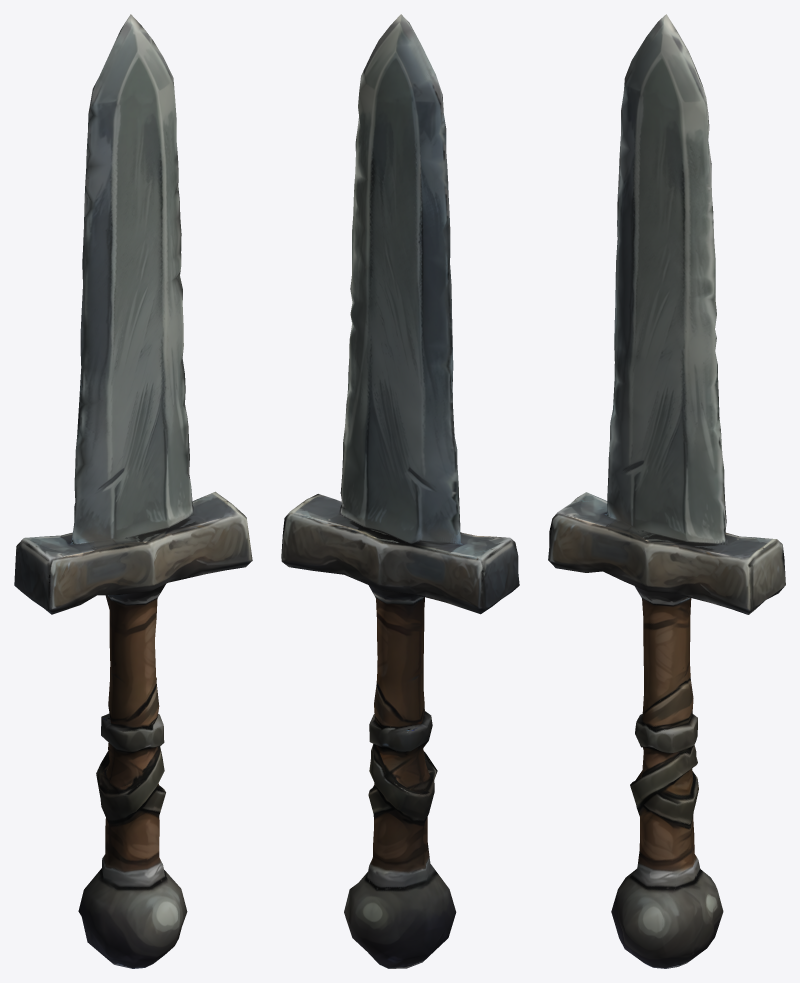
The model's file is Prop_Weapon_Greatsword.fbx.
The picture shows the model from 3 angles, left to right: view 1: azimuth 30°, elevation 25°; view 2: azimuth 150°, elevation 25°; view 3: azimuth 330°, elevation 25°; orthographic projection.
Parts seen in each view (by area): view 1: texture_mapping; view 2: texture_mapping; view 3: texture_mapping.
Boxes of the visible parts, x1=… form: texture_mapping: x1=14, y1=14, x2=252, y2=968; texture_mapping: x1=281, y1=14, x2=519, y2=968; texture_mapping: x1=548, y1=14, x2=785, y2=968.
Bounding box in the file's own units: 0.23 × 0.0997 × 1.
Materials: 1 (1 with a texture image).
